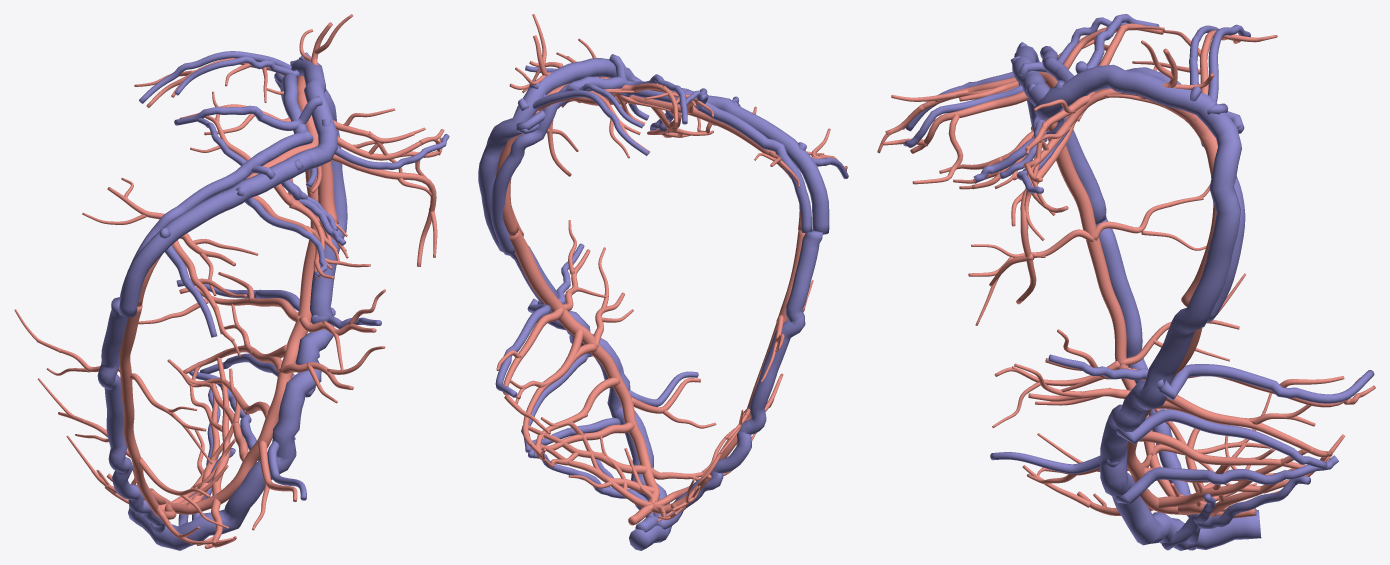
The model's file is vessels_11.glb.
3 renders of one model, left to right at view 1: azimuth 30°, elevation 25°; view 2: azimuth 150°, elevation 25°; view 3: azimuth 270°, elevation 25°, orthographic. The views are drawn at different scales.
Visible parts, largest first — view 1: Renderer Node; view 2: Renderer Node; view 3: Renderer Node.
Part boxes in pixels (left/top/right/bottom): Renderer Node: left=14, top=14, right=449, bottom=550; Renderer Node: left=478, top=14, right=848, bottom=550; Renderer Node: left=877, top=14, right=1375, bottom=550.
Bounding box in the file's own units: 89.14 × 121 × 90.93.
